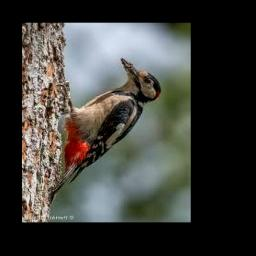Woodpecker: (48, 58, 161, 204)
